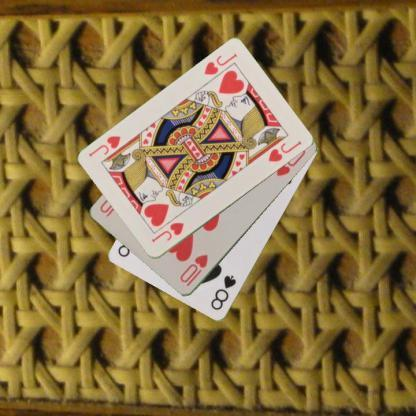10h: (177, 252, 210, 288)
8s: (208, 272, 238, 312)
Jh: (201, 51, 239, 77), (148, 220, 186, 244)
